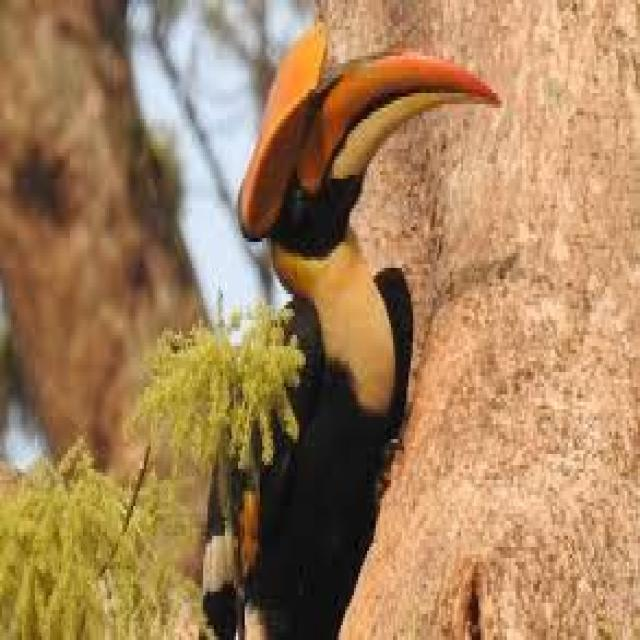Hornbill: (184, 18, 503, 640)
